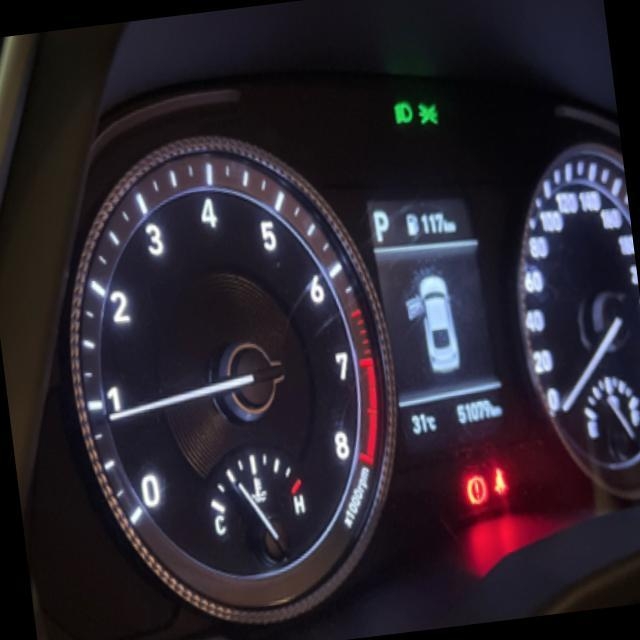Low beam: (388, 94, 416, 130)
